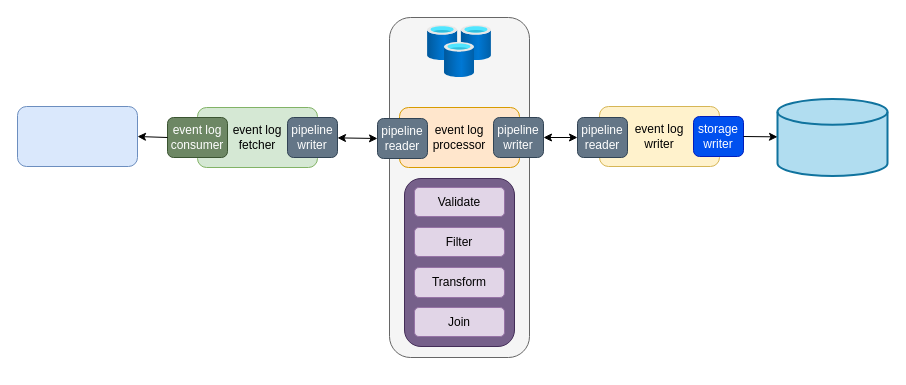
Image size: 906x385. Some labels were removed from this diagram. The shapes that lost their labels are listed below. From the top down, each one's centre as x and y in pixels, then its label:
At [459,51]: "Cache".
At [77,136]: "Event Log Generator (e.g. mix log.api)".
At [832,137]: "Storage Provider (e.g. filesystem)".
